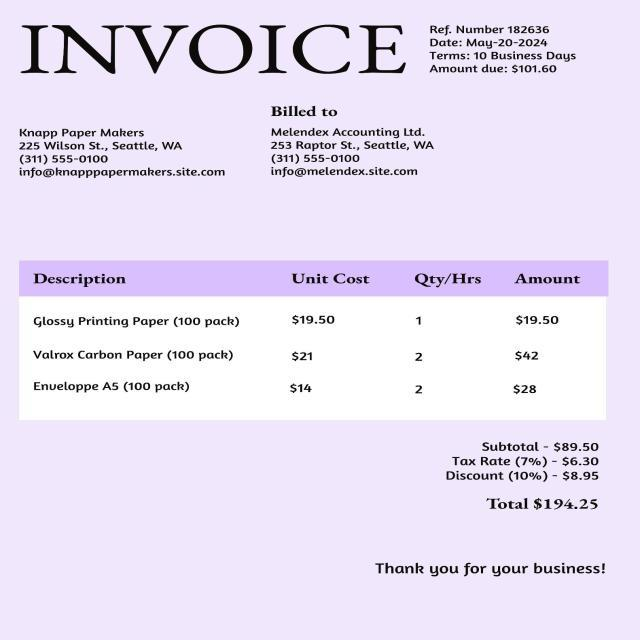ROI: (14, 256, 608, 422), (19, 17, 412, 86), (5, 110, 233, 192), (438, 429, 624, 518), (260, 100, 444, 183), (421, 14, 588, 81), (367, 545, 622, 588)
